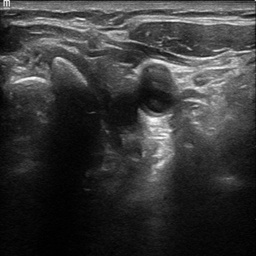mass: (137, 63, 175, 115)
